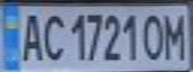1: (121, 10, 142, 62), (66, 10, 87, 62)
2: (103, 10, 124, 61)
7: (84, 10, 106, 61)
A: (15, 9, 45, 63)
C: (39, 9, 66, 62)
M: (160, 10, 190, 61)
O: (139, 10, 169, 62)
